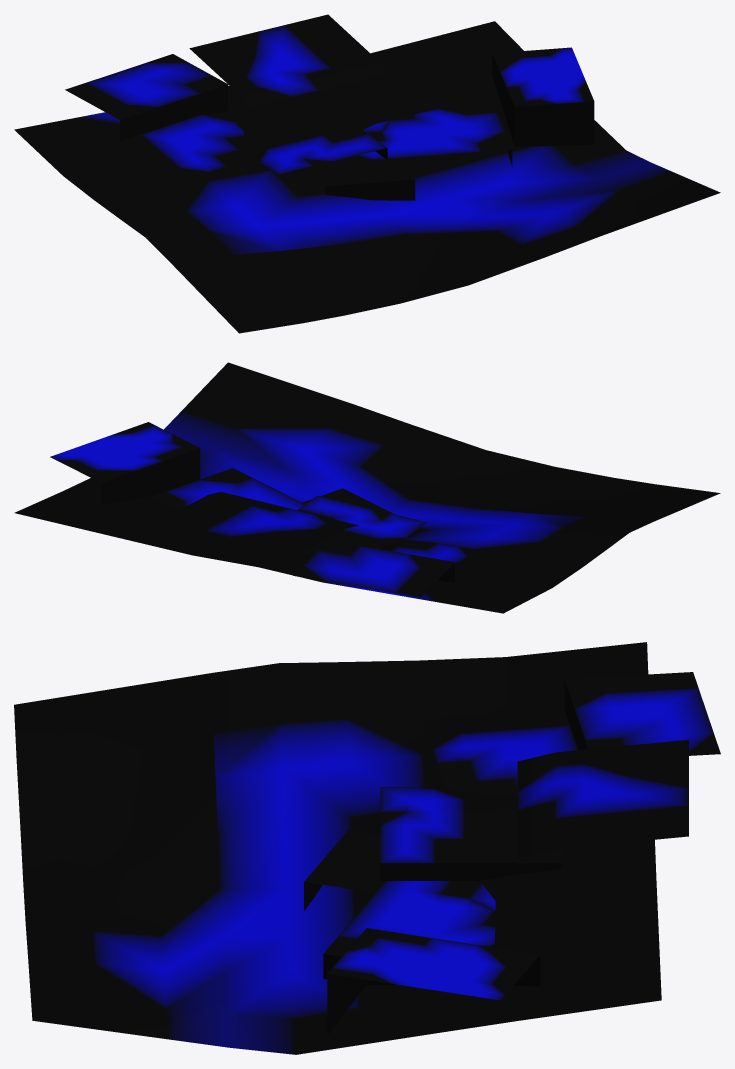
The model's file is V_Ground_All.FBX.
The picture shows the model from 3 angles, top to bottom: view 1: azimuth 30°, elevation 25°; view 2: azimuth 150°, elevation 25°; view 3: azimuth 270°, elevation 25°; orthographic projection. The views are drawn at different scales.
Parts seen in each view (by area): view 1: Plane001; view 2: Plane001; view 3: Plane001.
Boxes of the visible parts, bbox=[...] form: Plane001: bbox=[14, 14, 720, 333]; Plane001: bbox=[14, 362, 720, 613]; Plane001: bbox=[14, 642, 720, 1054].
Size of the model in its own units: 7231 by 1103 by 6123.
